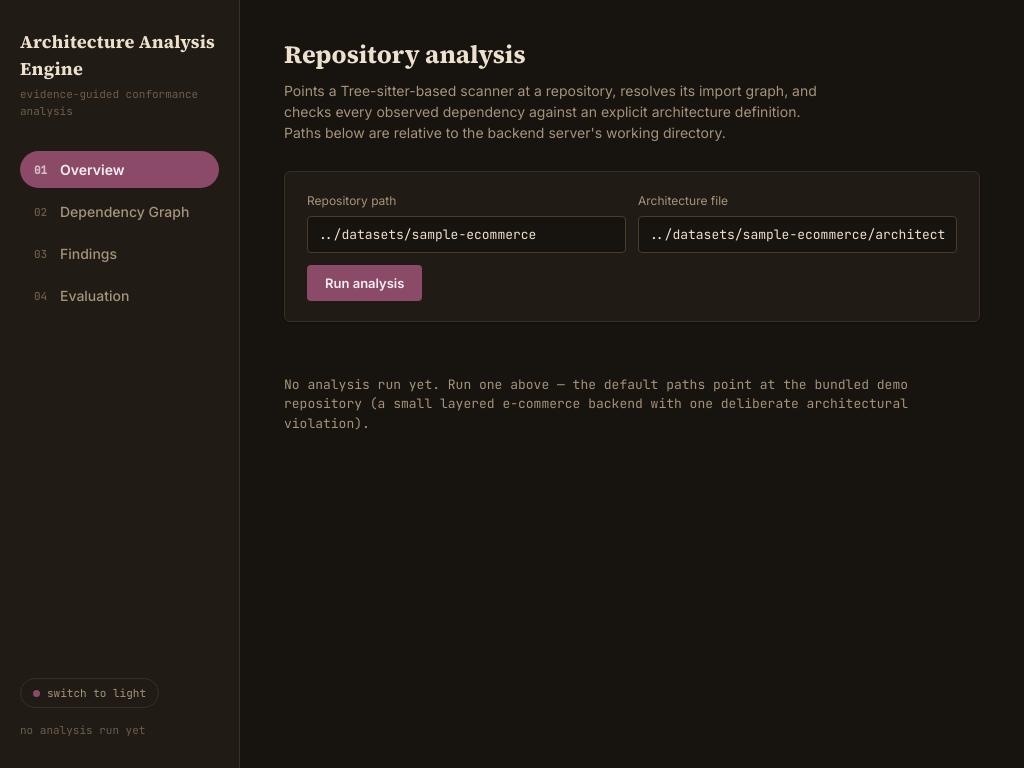
App navigation › opens the Evaluation view without running an analysis
Click the button "04 Evaluation" at (120, 296), box x1=20 y1=277 x2=219 y2=314
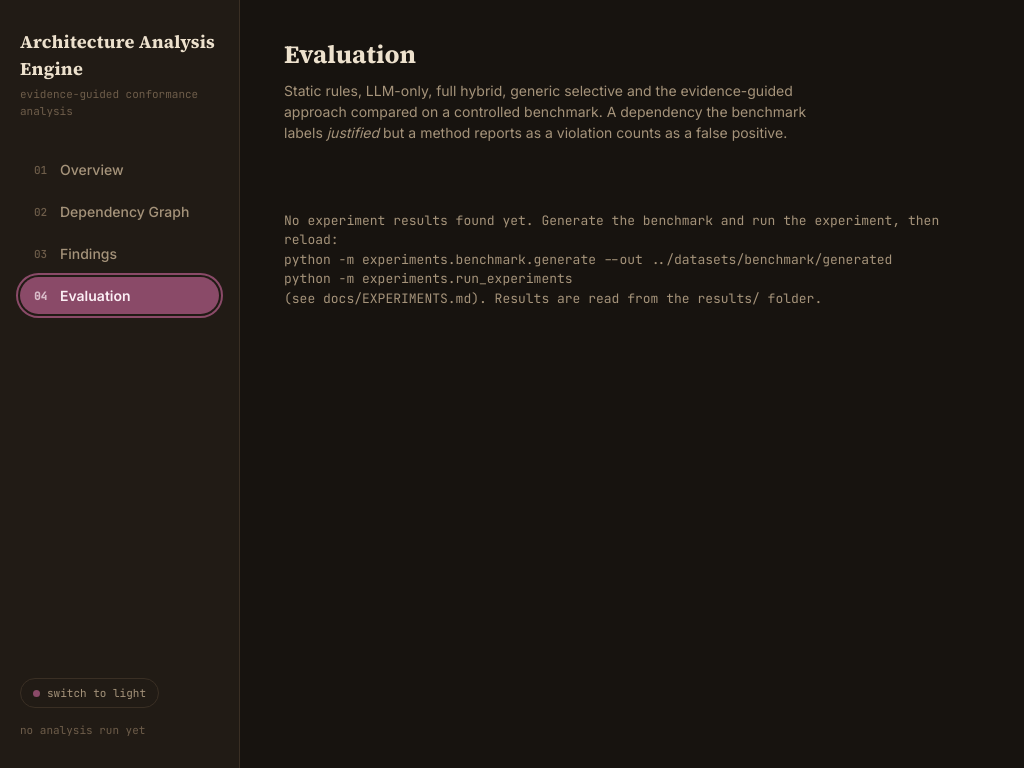
Check: the element with test id "no-runs" is shown, box x1=284 y1=212 x2=939 y2=306
